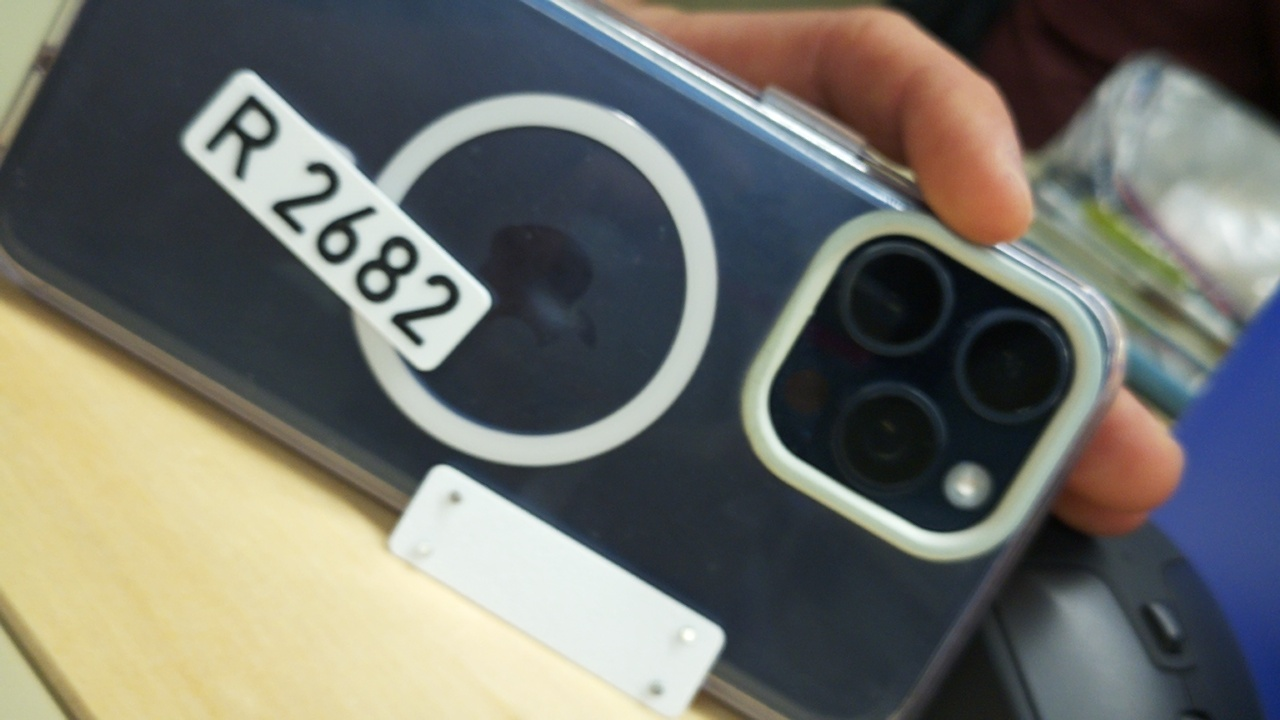license_plate: (177, 66, 498, 375), (383, 459, 729, 720)
